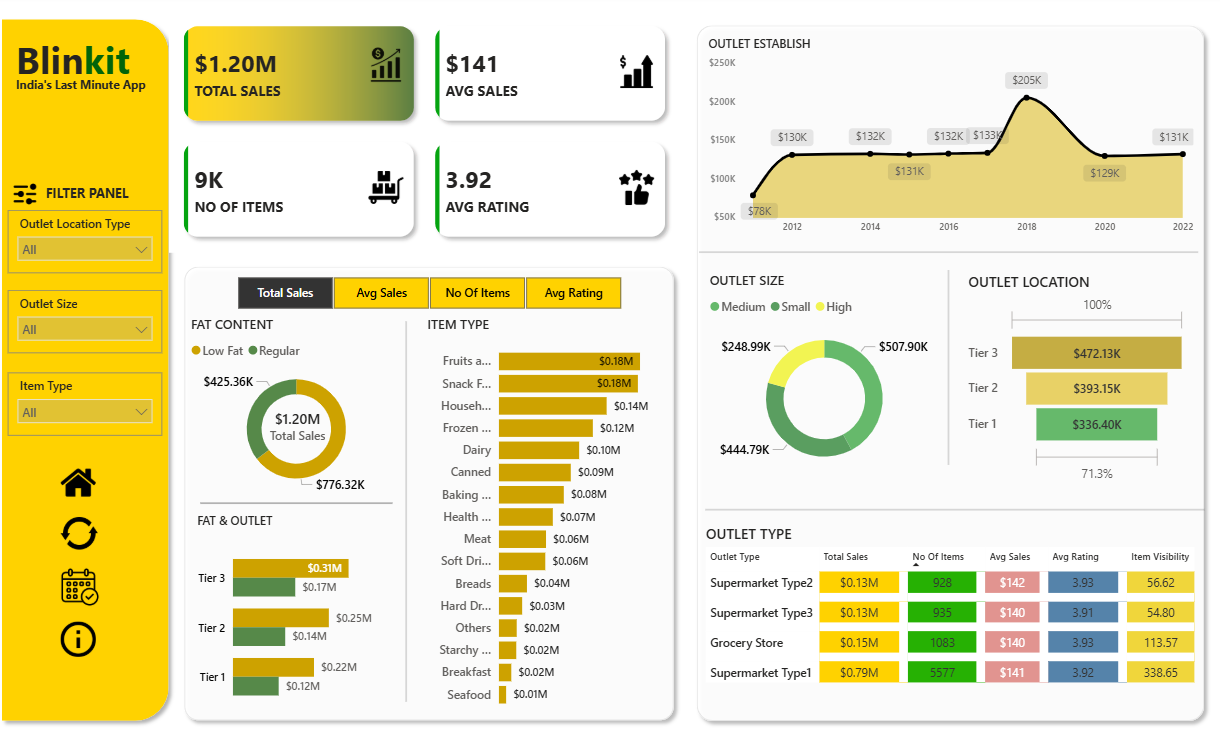

This screenshot's page, from the dashboard's own definition file:
{"tool":"powerbi","page":{"name":"Page 1","canvas":[1400,850],"ordinal":0},"visuals":[{"type":"shape","box":[0,18.5,207.9,817.5],"z":0},{"type":"textbox","box":[19.5,39,199.6,75],"z":1000},{"type":"textbox","box":[19.5,88.6,240.1,49.5],"z":2000},{"type":"cardVisual","fields":{"Data":["All measure.Total Sales","All measure.Avg Sales","All measure.No Of Items","All measure.Avg Rating"]},"box":[199.4,18.5,582.5,274.9],"z":3000},{"type":"shape","box":[207.3,300.5,575.4,534.9],"z":4000},{"type":"slicer","fields":{"Values":["Matrics.Matrics"]},"box":[252.1,315.2,486.3,49.5],"z":5000},{"type":"donutChart","title":" FAT CONTENT","fields":{"Y":["All measure.Total Sales"],"Category":["BlinkIT Grocery Data.Item Fat Content"]},"box":[219.1,364.7,250.6,210.1],"z":6000},{"type":"clusteredBarChart","title":"ITEM TYPE","fields":{"Y":["All measure.Total Sales"],"Category":["BlinkIT Grocery Data.Item Type"]},"box":[488.3,365.1,294.5,458.3],"z":7000},{"type":"shape","box":[235.6,564.3,219.1,30],"z":8000},{"type":"shape","box":[448.8,372.2,42,433.7],"z":9000},{"type":"cardVisual","fields":{"Data":["All measure.Total Sales"]},"box":[294.5,453.7,102.2,69.1],"z":10000},{"type":"barChart","box":[792,26,582,275],"z":11000},{"type":"clusteredBarChart","title":"FAT & OUTLET","fields":{"Y":["All measure.Total Sales"],"Category":["BlinkIT Grocery Data.Outlet Location Type"],"Series":["BlinkIT Grocery Data.Item Fat Content"]},"box":[226.6,589.8,228.1,238.6],"z":12000},{"type":"shape","box":[792.5,25.5,595.8,810.5],"z":13000},{"type":"lineChart","title":"OUTLET ESTABLISH","fields":{"Y":["All measure.Total Sales"],"Category":["BlinkIT Grocery Data.Outlet Establishment Year"]},"box":[809,45,562.8,235.6],"z":14000},{"type":"shape","box":[803,286.7,568.8,13.5],"z":15000},{"type":"donutChart","title":"OUTLET SIZE","fields":{"Y":["All measure.Total Sales"],"Category":["BlinkIT Grocery Data.Outlet Size"]},"box":[810.5,315.2,271.7,240.1],"z":16000},{"type":"funnel","title":"OUTLET LOCATION","fields":{"Category":["BlinkIT Grocery Data.Outlet Location Type"],"Y":["All measure.Total Sales"]},"box":[1104.6,315.2,258.1,246.1],"z":17000},{"type":"shape","box":[810.5,579.3,568.8,13.5],"z":18000},{"type":"shape","box":[1071.6,313.7,33,222.1],"z":19000},{"type":"pivotTable","title":"OUTLET TYPE","fields":{"Rows":["BlinkIT Grocery Data.Outlet Type"],"Values":["All measure.Total Sales","All measure.No Of Items","All measure.Avg Sales","All measure.Avg Rating","Sum(BlinkIT Grocery Data.Item Visibility)"]},"box":[806,601.8,576.3,216.1],"z":20000},{"type":"slicer","fields":{"Values":["BlinkIT Grocery Data.Outlet Location Type"]},"box":[15,244.6,175.6,72],"z":21000},{"type":"slicer","fields":{"Values":["BlinkIT Grocery Data.Outlet Size"]},"box":[15,336.2,175.6,72],"z":22000},{"type":"slicer","fields":{"Values":["BlinkIT Grocery Data.Item Type"]},"box":[15,430.7,175.6,72],"z":23000},{"type":"image","box":[70.5,528.3,49.5,54],"z":24000},{"type":"image","box":[70.5,582.3,52.5,61.5],"z":25000},{"type":"image","box":[70.5,643.9,54,61.5],"z":26000},{"type":"image","box":[70.5,709.9,49.5,49.5],"z":27000},{"type":"textbox","box":[54,210.1,124.6,36],"z":28000},{"type":"image","box":[15,208.6,39,37.5],"z":29000}]}

Visuals, with their boxes in screenshot pixels (x1, y1, x2, y2), scaled from the page's 1400x850 canvas onto the 1220x737 screenshot:
shape: Rect(0, 16, 181, 725)
textbox: Rect(17, 34, 191, 99)
textbox: Rect(17, 77, 226, 120)
cardVisual - All measure.Total Sales x All measure.Avg Sales: Rect(174, 16, 681, 254)
shape: Rect(181, 261, 682, 724)
slicer - Matrics.Matrics: Rect(220, 273, 643, 316)
" FAT CONTENT" donutChart: Rect(191, 316, 409, 498)
"ITEM TYPE" clusteredBarChart: Rect(426, 317, 682, 714)
shape: Rect(205, 489, 396, 515)
shape: Rect(391, 323, 428, 699)
cardVisual - All measure.Total Sales: Rect(257, 393, 346, 453)
barChart: Rect(690, 23, 1197, 261)
"FAT & OUTLET" clusteredBarChart: Rect(197, 511, 396, 718)
shape: Rect(691, 22, 1210, 725)
"OUTLET ESTABLISH" lineChart: Rect(705, 39, 1195, 243)
shape: Rect(700, 249, 1195, 260)
"OUTLET SIZE" donutChart: Rect(706, 273, 943, 481)
"OUTLET LOCATION" funnel: Rect(963, 273, 1187, 487)
shape: Rect(706, 502, 1202, 514)
shape: Rect(934, 272, 963, 465)
"OUTLET TYPE" pivotTable: Rect(702, 522, 1205, 709)
slicer - BlinkIT Grocery Data.Outlet Location Type: Rect(13, 212, 166, 275)
slicer - BlinkIT Grocery Data.Outlet Size: Rect(13, 292, 166, 354)
slicer - BlinkIT Grocery Data.Item Type: Rect(13, 373, 166, 436)
image: Rect(61, 458, 105, 505)
image: Rect(61, 505, 107, 558)
image: Rect(61, 558, 108, 612)
image: Rect(61, 616, 105, 658)
textbox: Rect(47, 182, 156, 213)
image: Rect(13, 181, 47, 213)
